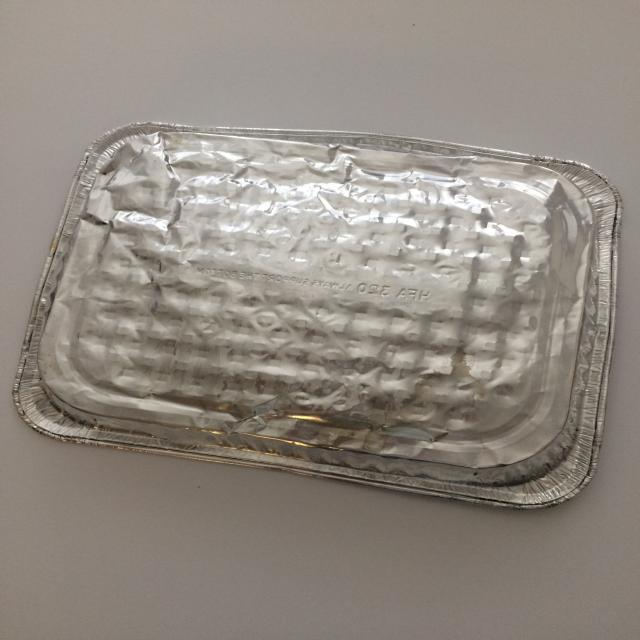metal: (14, 120, 624, 512)
